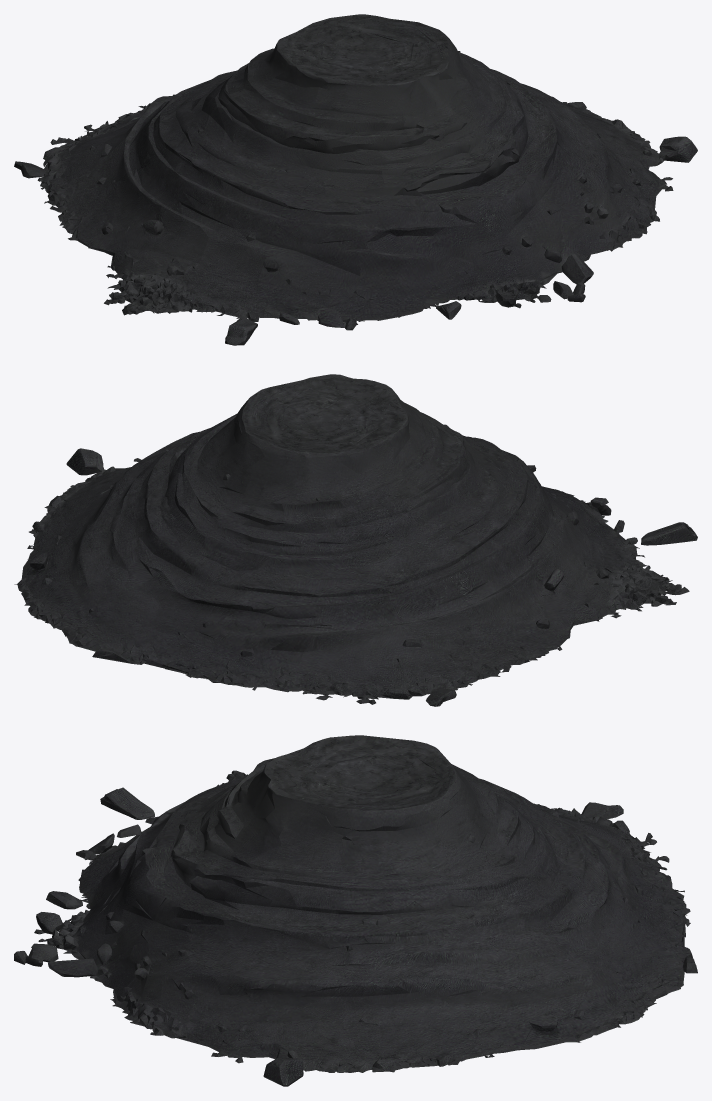
The model's file is min3-ash-final.glb.
3 renders of one model, top to bottom at view 1: azimuth 30°, elevation 25°; view 2: azimuth 150°, elevation 25°; view 3: azimuth 270°, elevation 25°, orthographic. The views are drawn at different scales.
Bounding box in the file's own units: 12567 × 3000 × 11498.
1 material, 1 textured.
